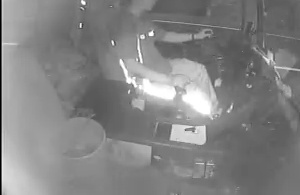paper: (171, 123, 207, 146)
